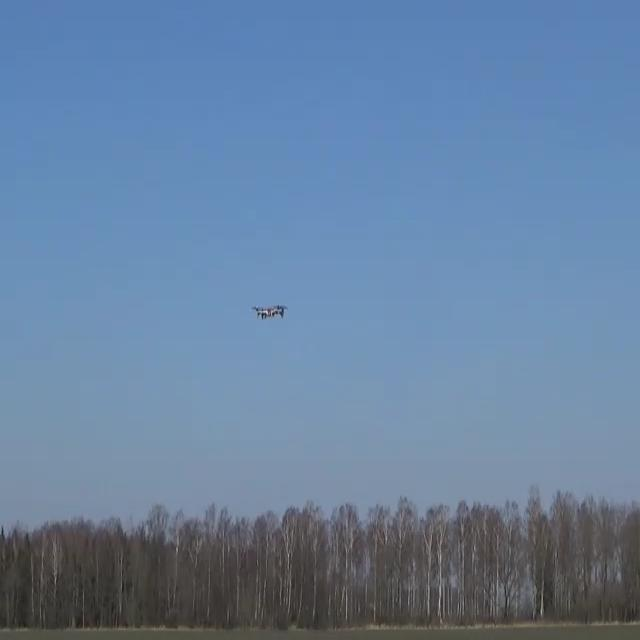Drone: (248, 295, 294, 330)
